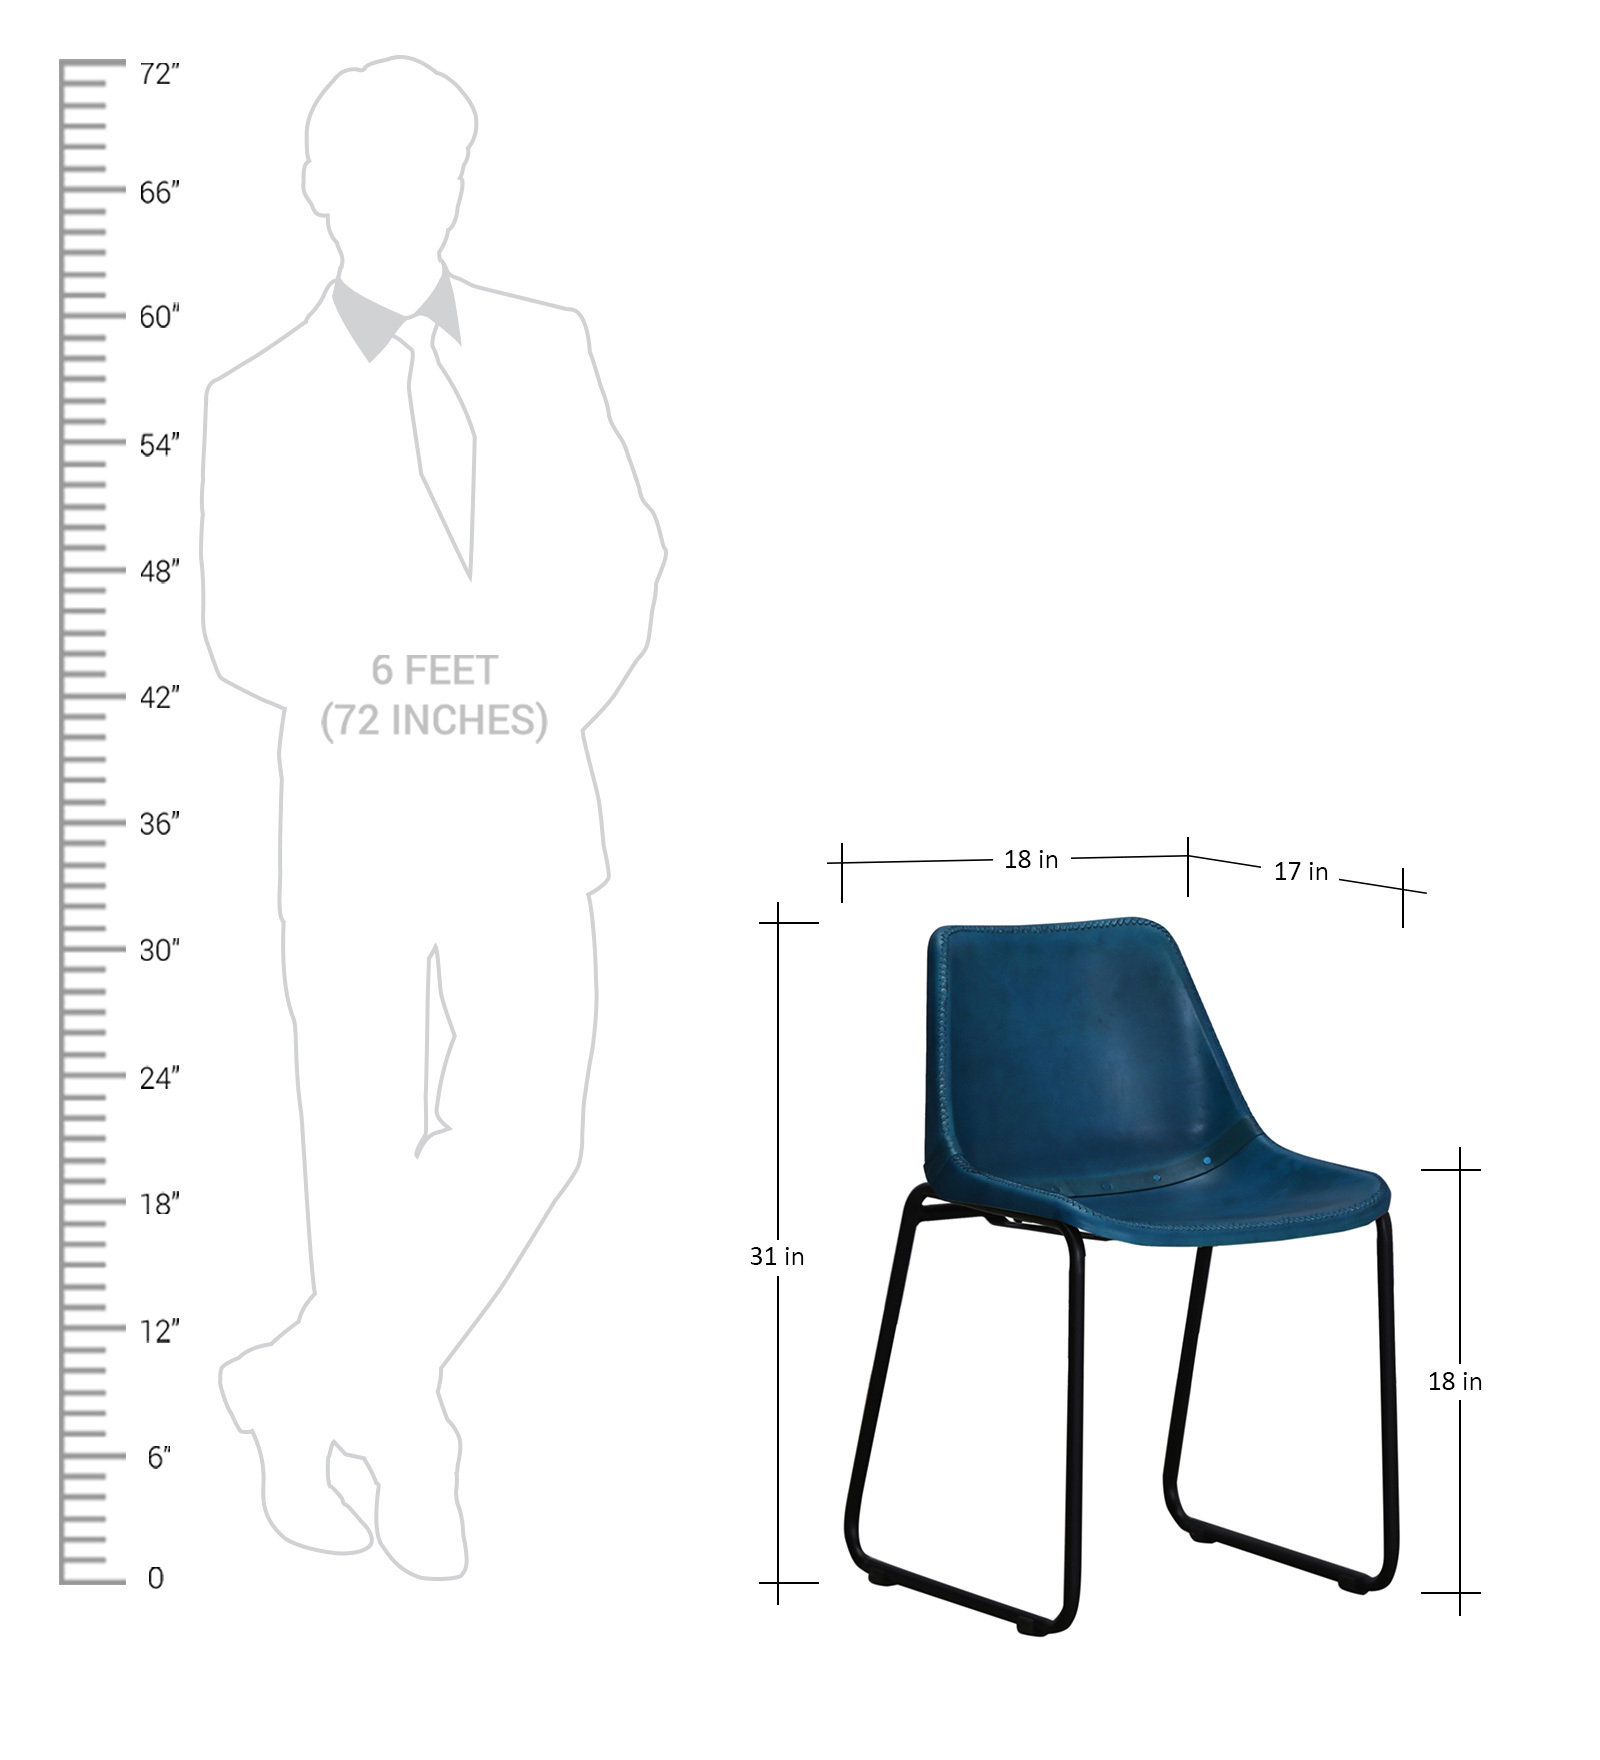Medina Ink Blue Color Leather Accent Chair by Bohemiana: (841, 912, 1416, 1640)
